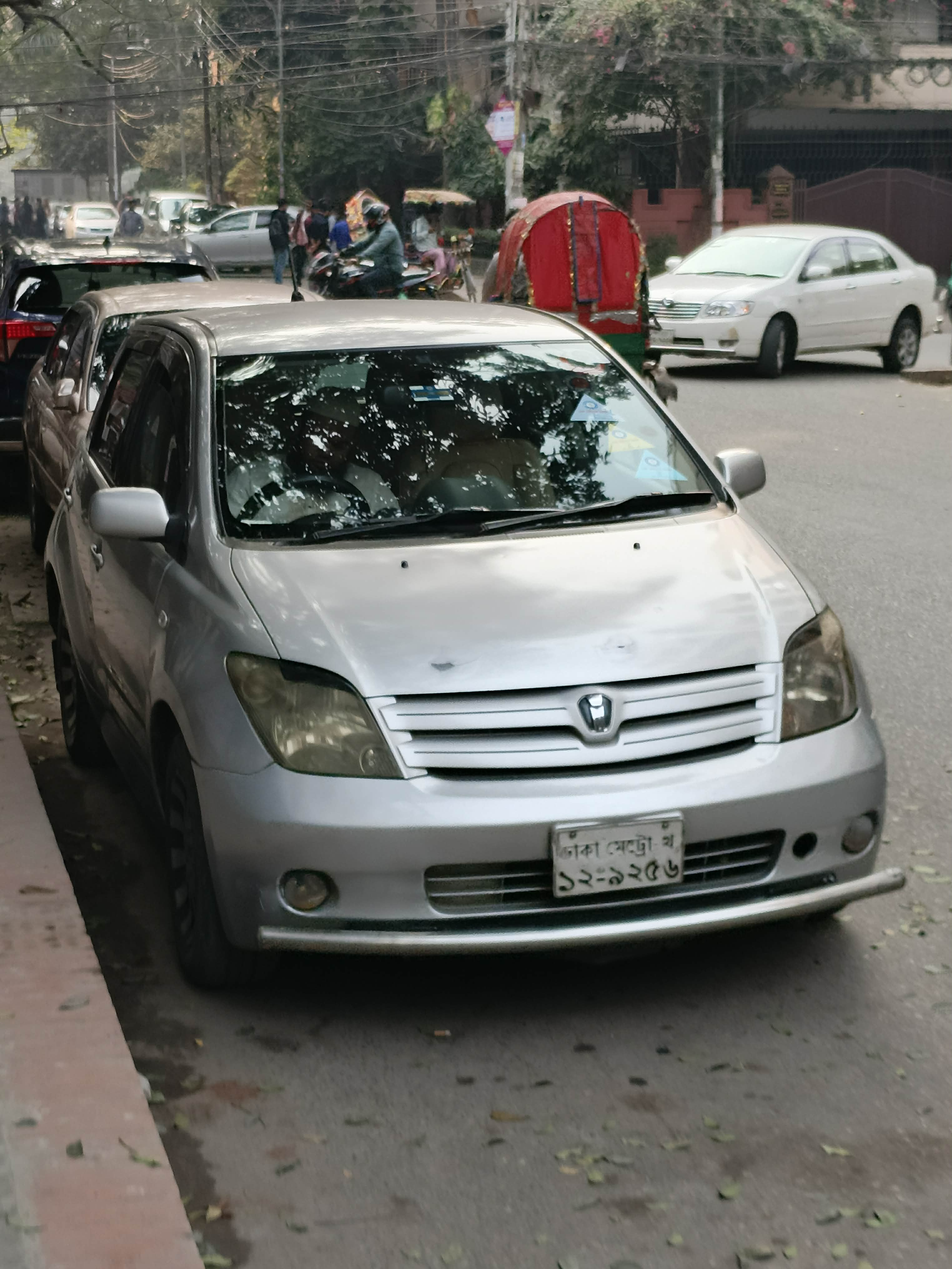Bikes: (247, 191, 457, 301)
auto-ricksaw: (493, 179, 675, 371), (394, 166, 492, 286)
private car: (0, 160, 857, 1027), (648, 179, 930, 385), (175, 200, 275, 273)
